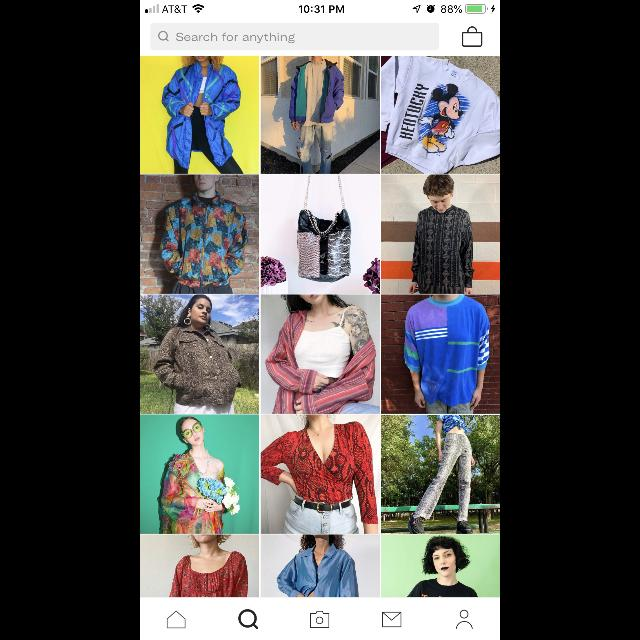icon: (462, 27, 482, 48), (239, 609, 259, 629), (167, 610, 186, 628), (382, 611, 402, 627), (310, 612, 330, 628), (456, 610, 472, 628), (159, 31, 169, 41)
image: (380, 174, 500, 294), (260, 174, 380, 294), (260, 294, 380, 414), (380, 294, 500, 414), (260, 414, 380, 534), (140, 414, 260, 534), (140, 294, 260, 414), (140, 174, 260, 294), (140, 56, 260, 174), (260, 56, 380, 174), (380, 56, 500, 174), (380, 415, 500, 533), (380, 535, 500, 597), (260, 535, 380, 597), (140, 535, 260, 597)
input: (151, 24, 439, 51)
text: (177, 32, 295, 44)
uppertaskbar: (140, 0, 500, 14)
